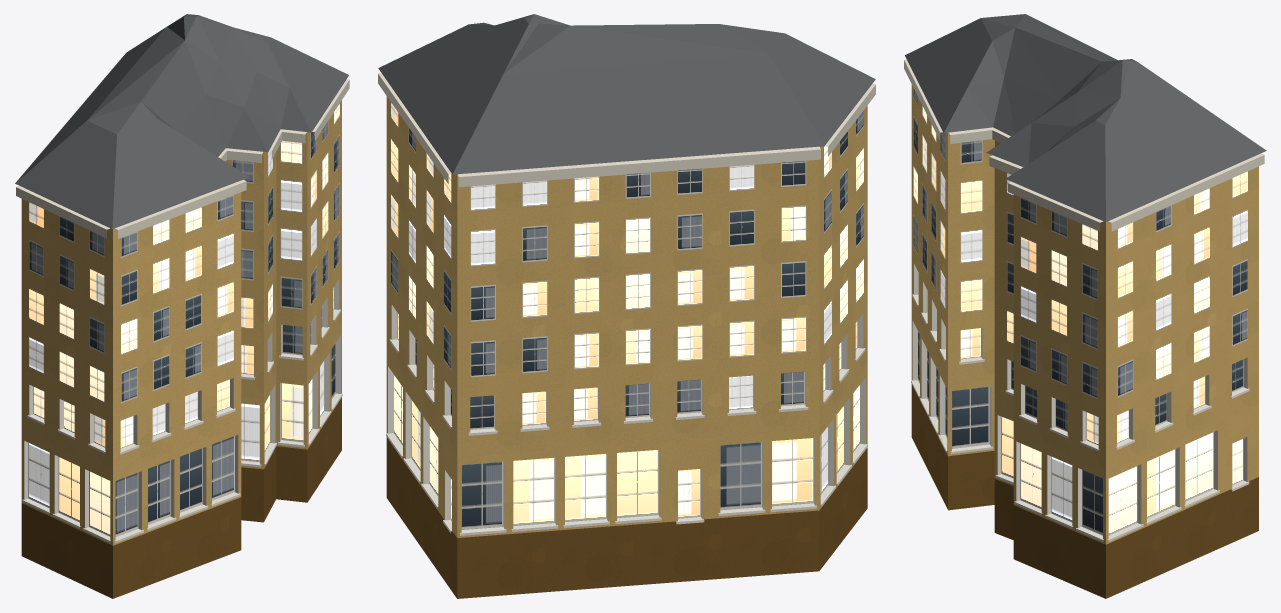
Rendered from ida1.glb.
The picture shows the model from 3 angles, left to right: view 1: azimuth 30°, elevation 25°; view 2: azimuth 150°, elevation 25°; view 3: azimuth 270°, elevation 25°; orthographic projection. The views are drawn at different scales.
Parts seen in each view (by area): view 1: ida1; view 2: ida1; view 3: ida1.
Boxes of the visible parts, x1,y1,x2,y2 form: ida1: (15,14,349,598); ida1: (378,14,875,598); ida1: (904,14,1266,598).
Size of the model in its own units: 21.46 by 26.08 by 18.23.
3 materials, 3 textured.
